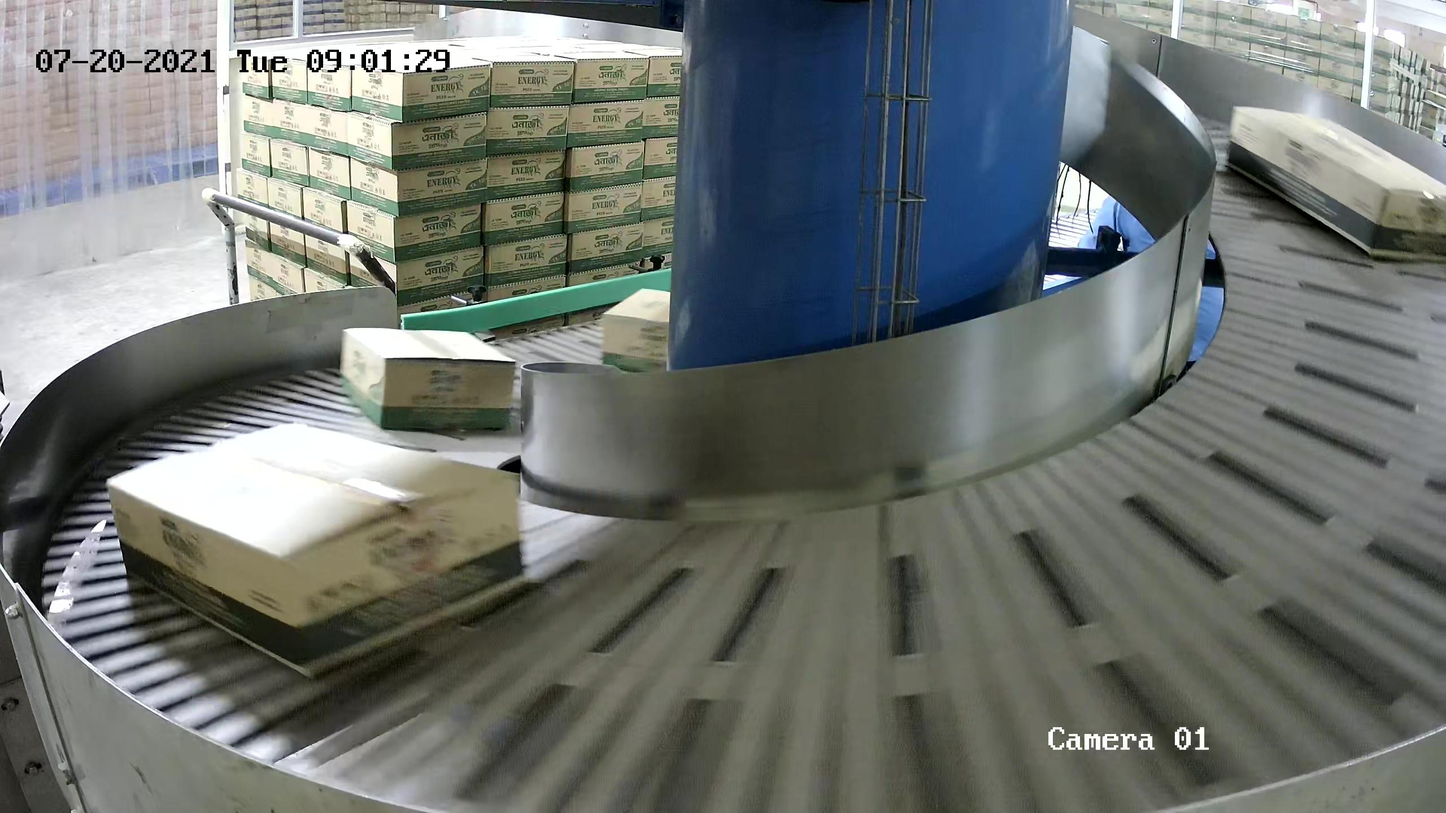Box: (104, 421, 529, 680), (1224, 105, 1446, 265), (340, 326, 517, 432), (601, 287, 725, 387)
